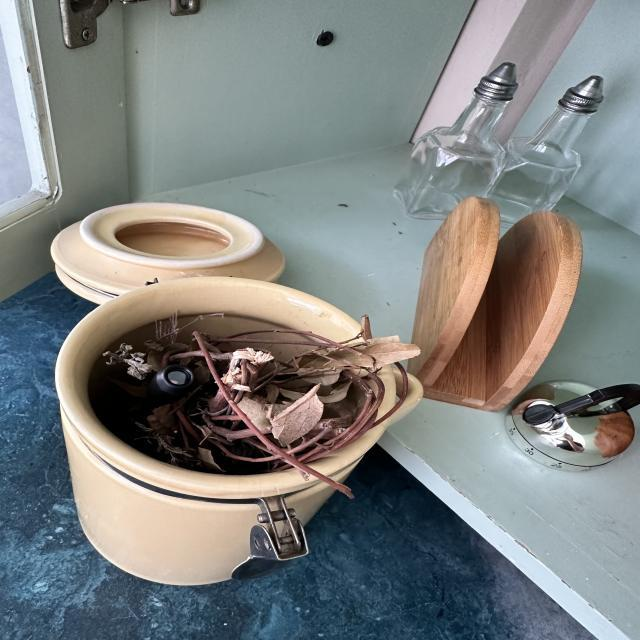hidden camera: (164, 364, 195, 387)
